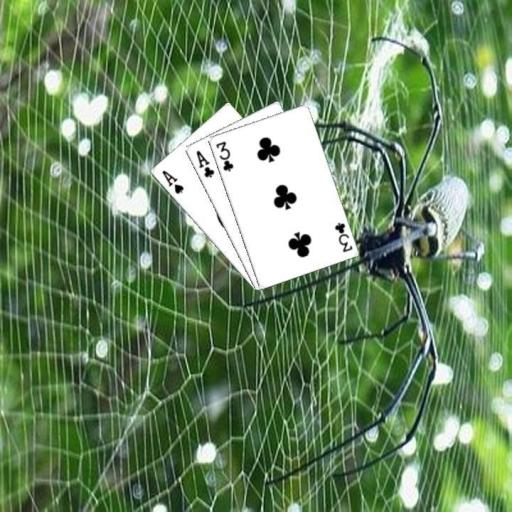3C: (332, 219, 355, 254), (213, 138, 235, 173)
AC: (193, 147, 216, 179)
AS: (158, 167, 185, 196)
